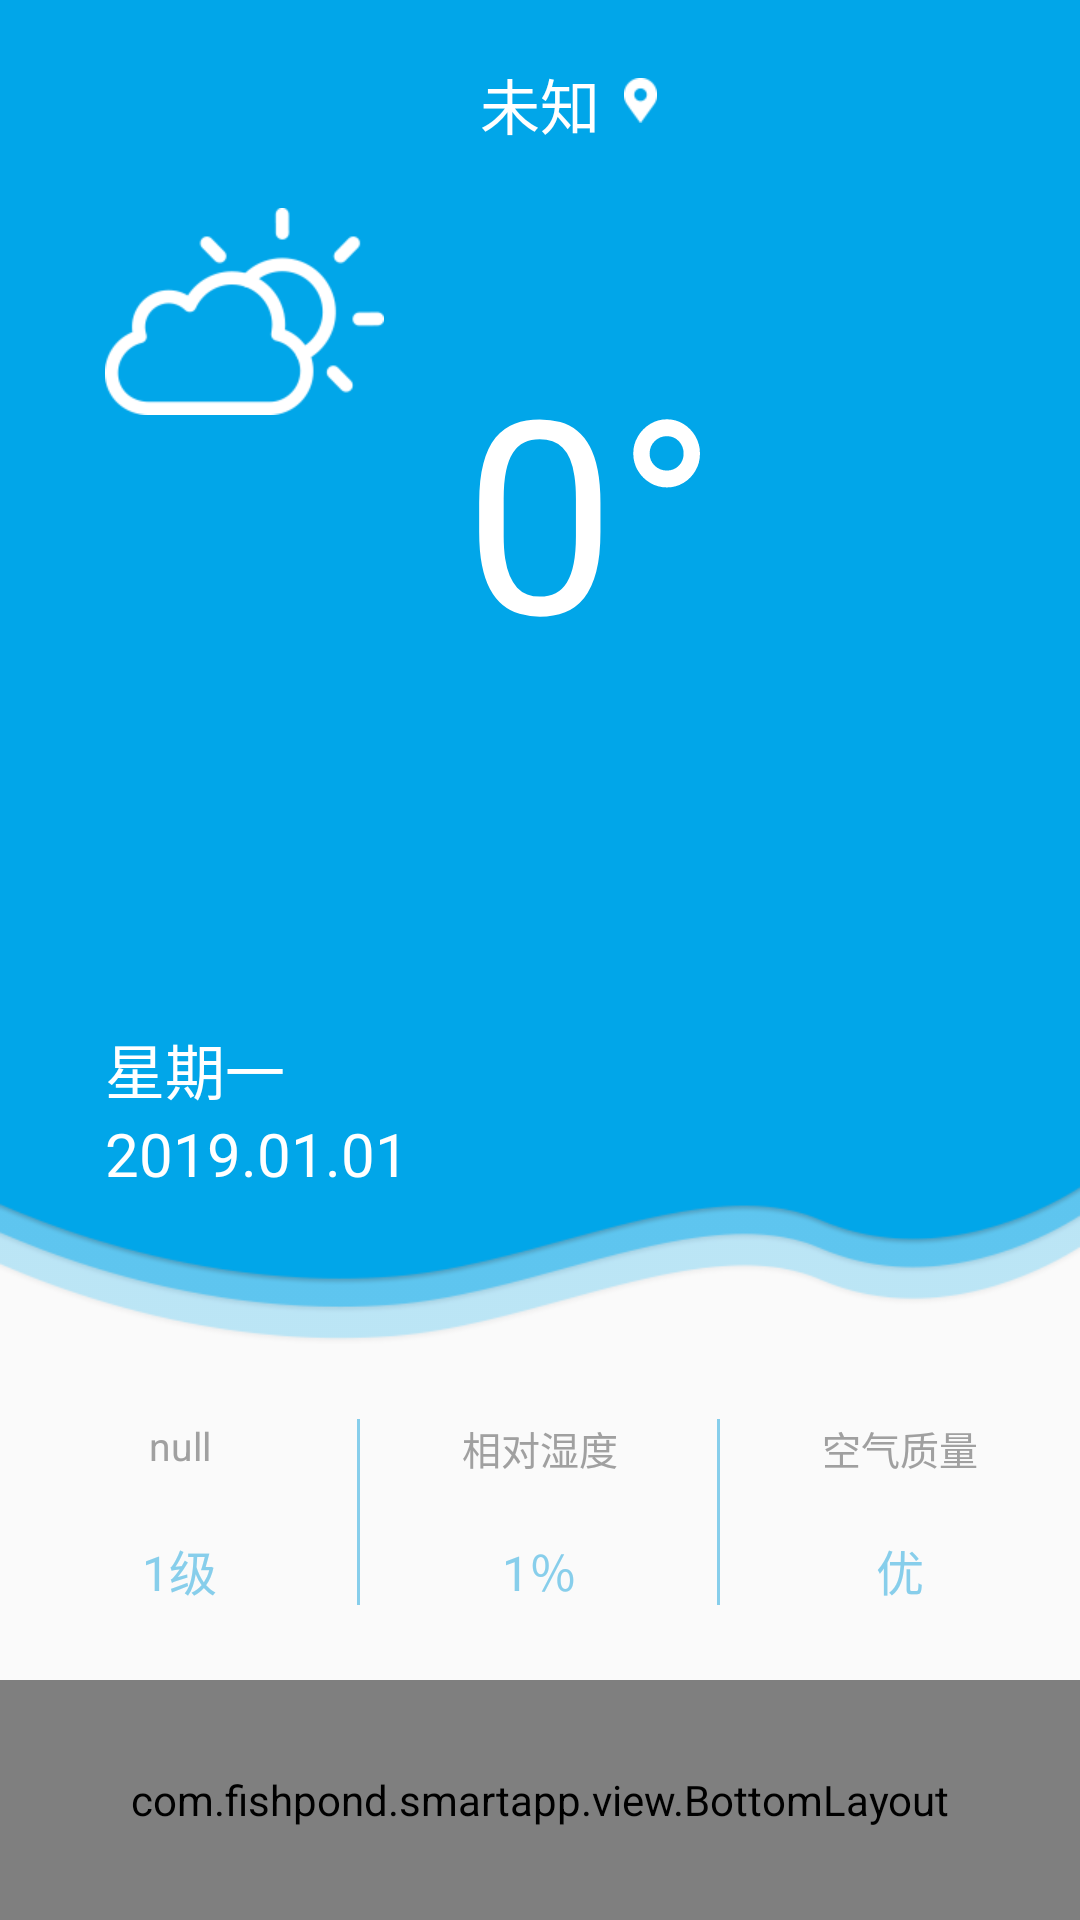

Icons on this 1080w x 1920h Android screen, each with the point to tap as (x=x, y=y):
location: (x=640, y=100)
